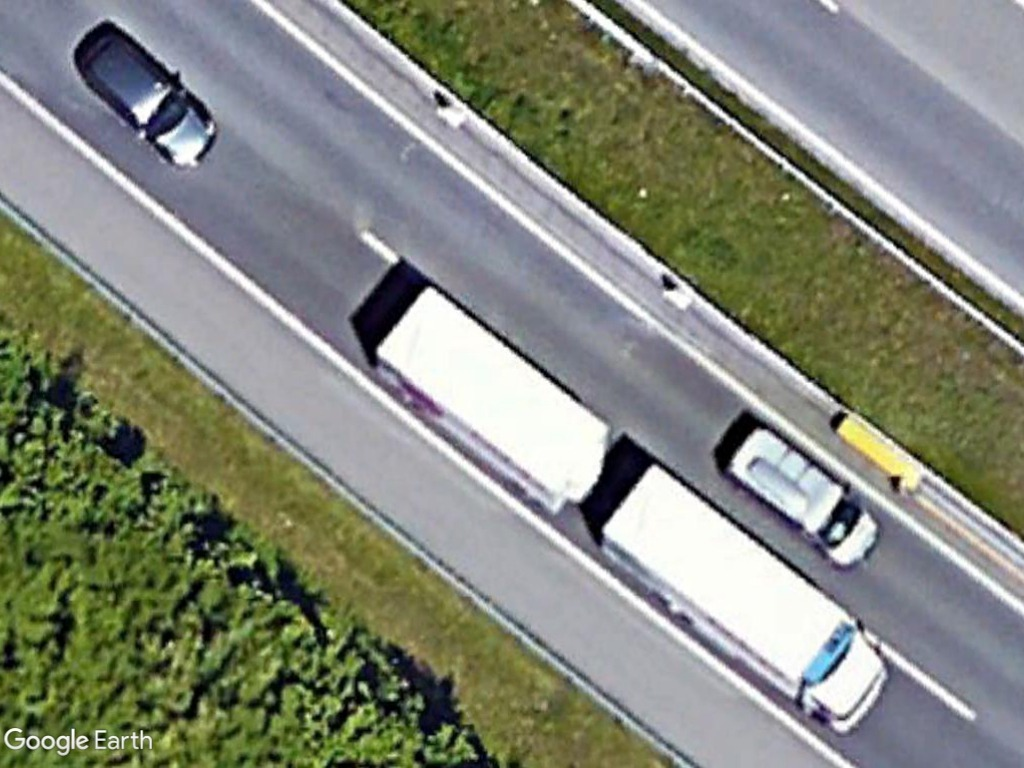car: (77, 20, 220, 177)
truck: (587, 460, 892, 737)
van: (727, 407, 889, 573)
